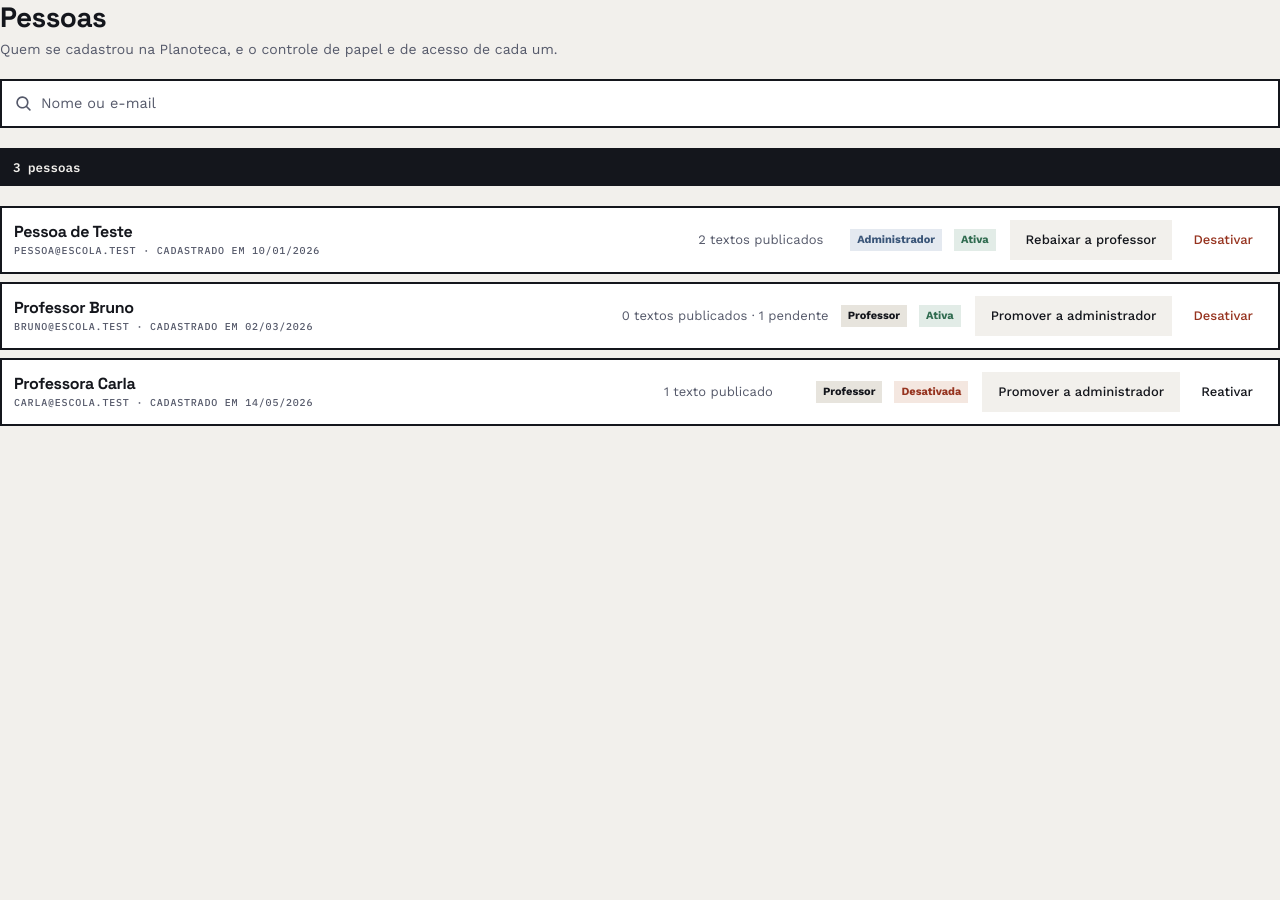
Test: PaginaPessoasAdmin › mostra o erro do servidor ao tentar rebaixar a própria conta
Expected: the heading "Pessoa de Teste" is shown, [14, 221, 132, 242]
Click the button "Rebaixar a professor": (1091,240) [1008, 218, 1174, 262]
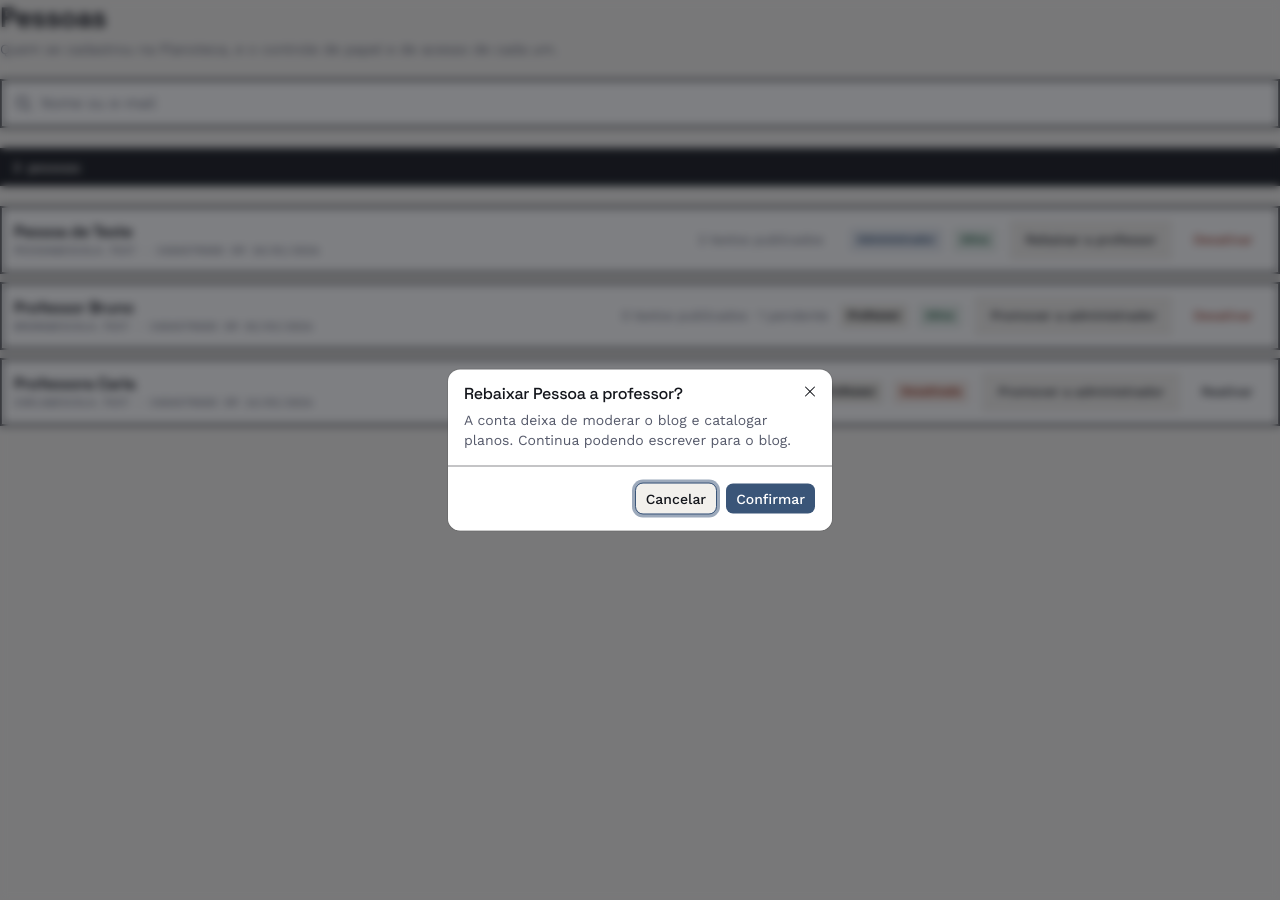
Click the button "Confirmar": (771,498) [725, 482, 816, 514]
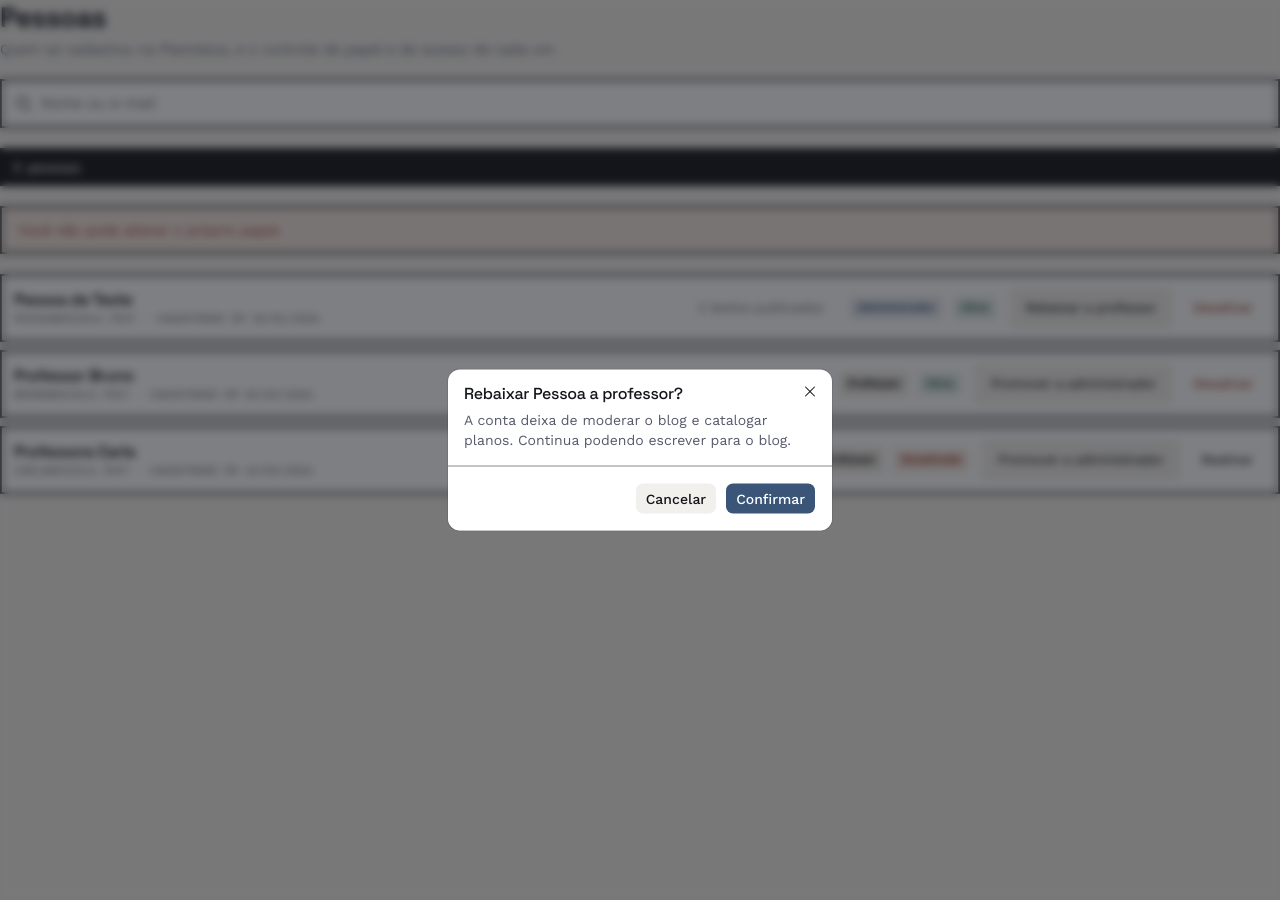
Expected: the text "Você não pode alterar o próprio papel." is shown, [0, 206, 1279, 254]
